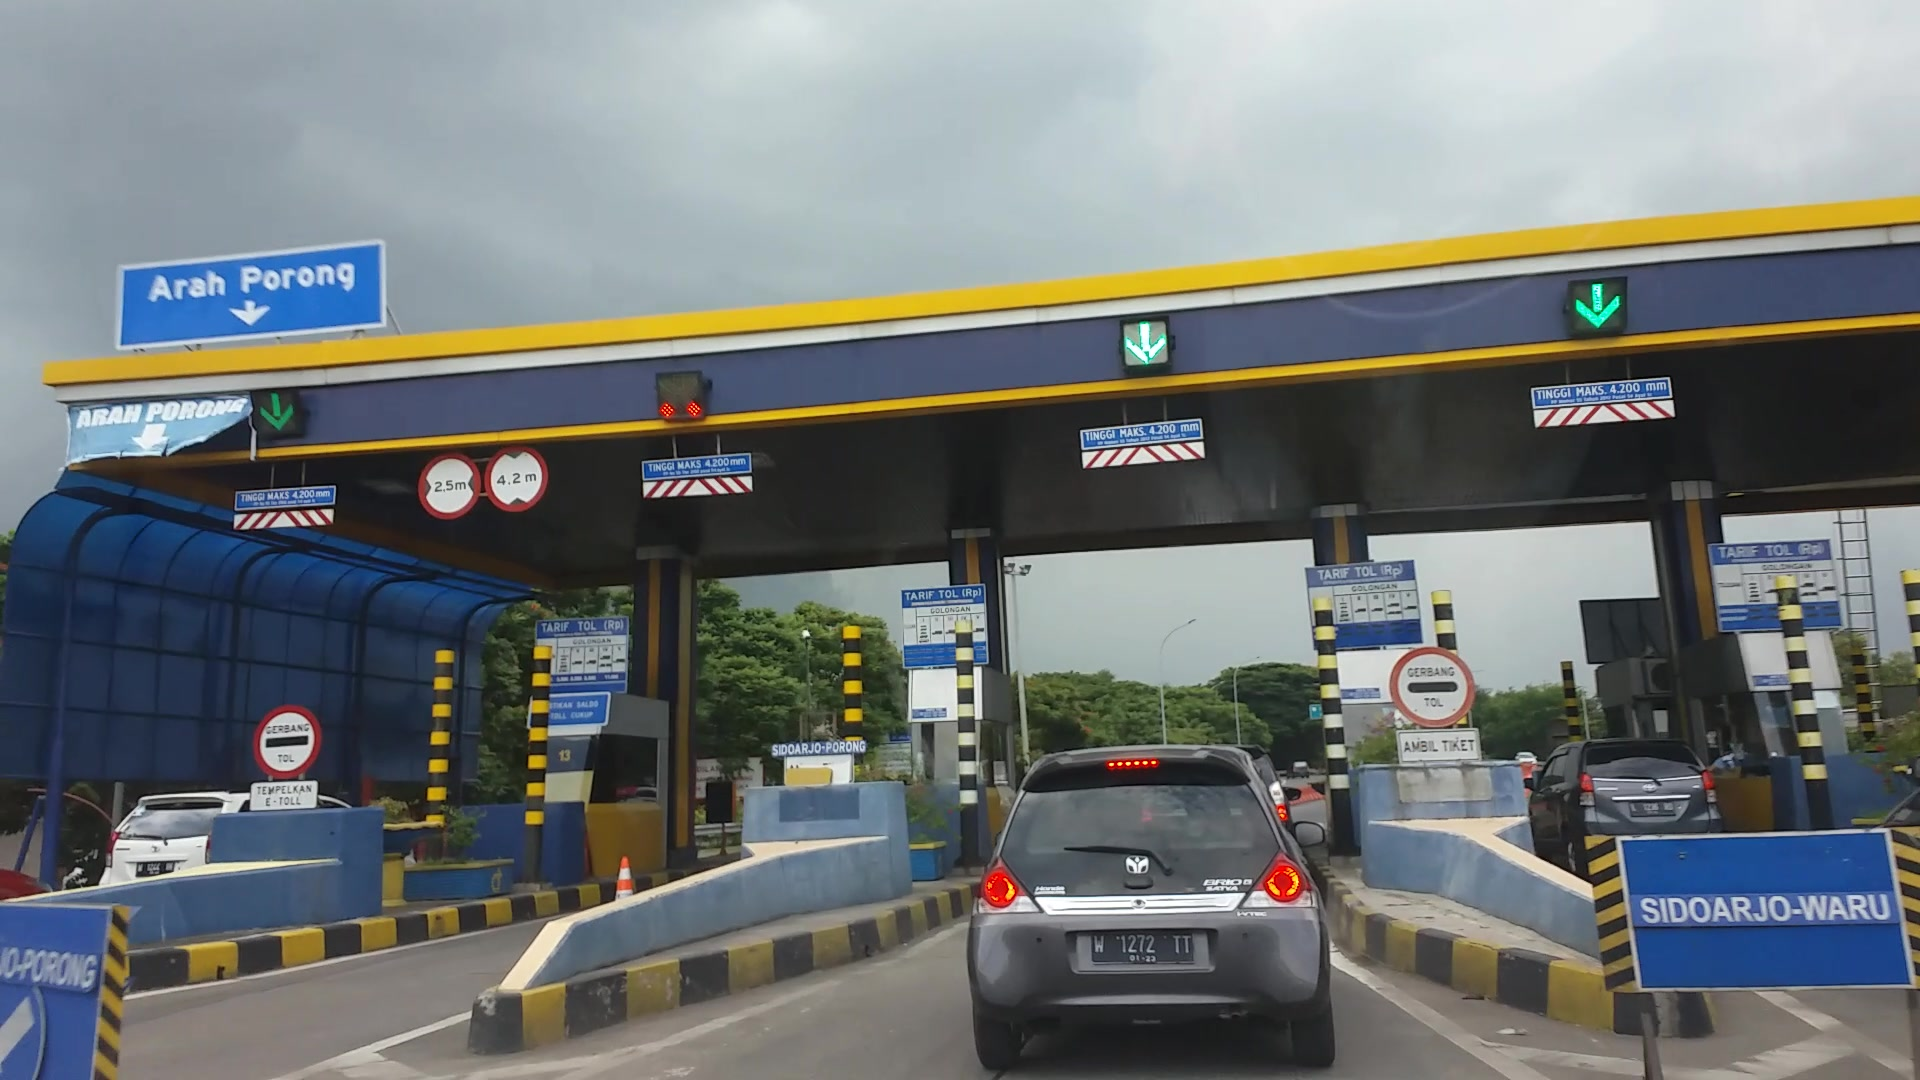plate_positive: (1091, 932, 1193, 964)
